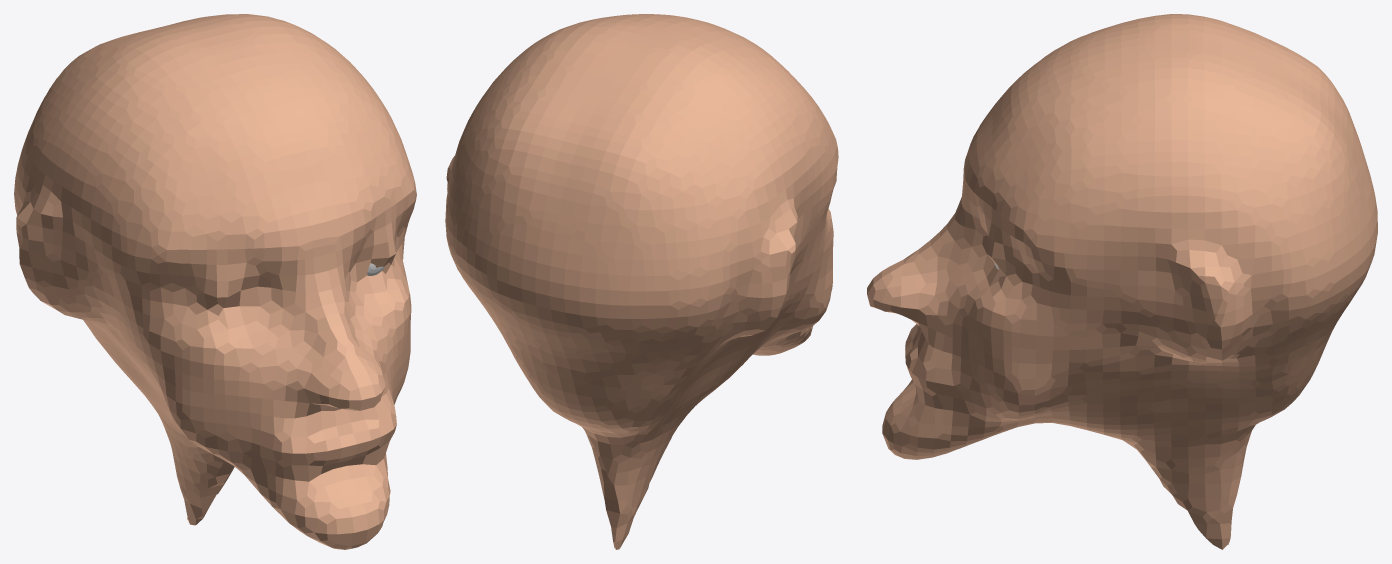
Rendered from head.glb.
3 views of the same model, side by side, from view 1: azimuth 30°, elevation 25°; view 2: azimuth 150°, elevation 25°; view 3: azimuth 270°, elevation 25° (orthographic). The views are drawn at different scales.
Parts seen in each view (by area): view 1: head; view 2: head; view 3: head.
Part boxes in pixels (x1,y1,x2,y2): head: (14,14,416,549); head: (445,14,838,549); head: (867,14,1377,549).
Bounding box in the file's own units: 1.87 × 2.58 × 2.35.
